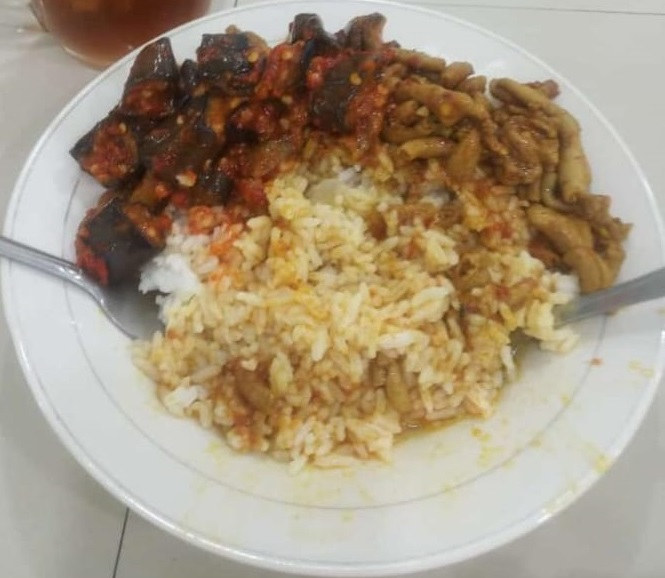Nasi: (166, 233, 529, 463)
Sambel_terong: (77, 7, 372, 168)
Usus: (384, 41, 628, 220)
